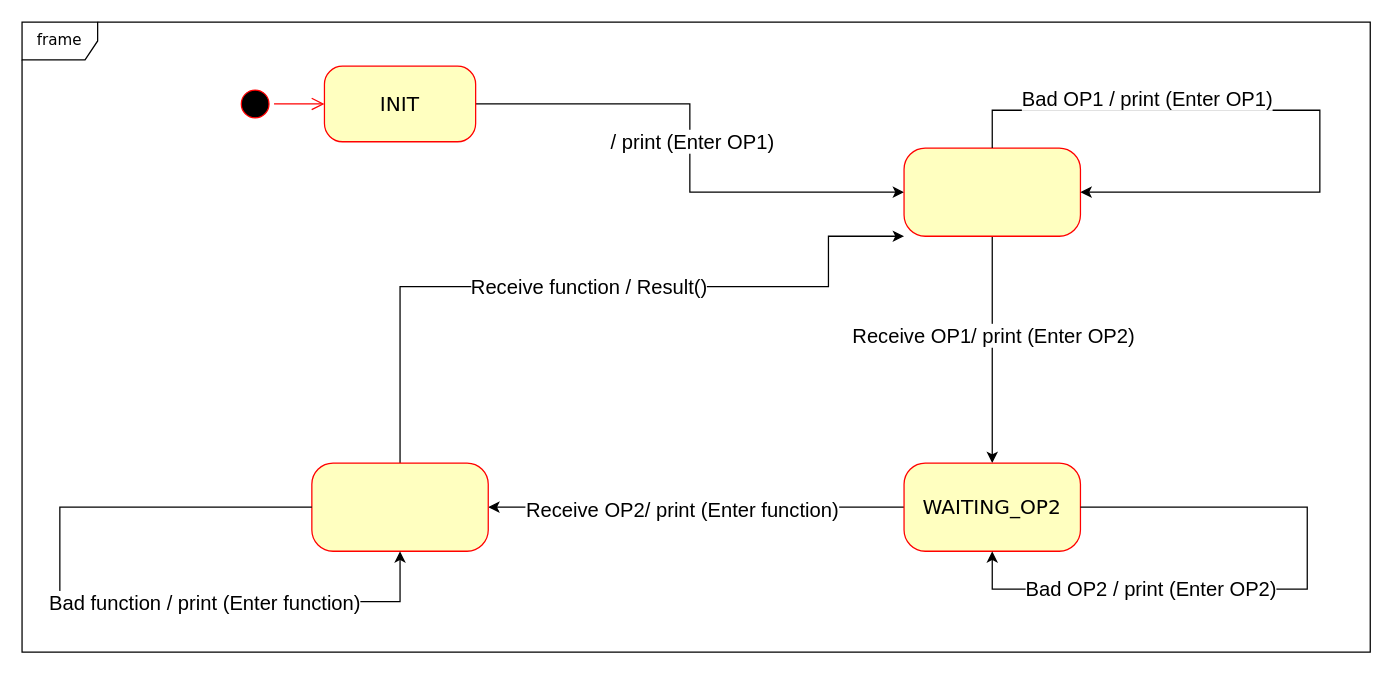
Some shapes in this 1392 by 674 pixel diagram are drawn without their labels. Here are the shapes that lost their labels. From the top down, the box of each, then its label:
(903, 147, 1080, 236): WAITING_OP1
(311, 462, 488, 551): WAITING_FUNC
